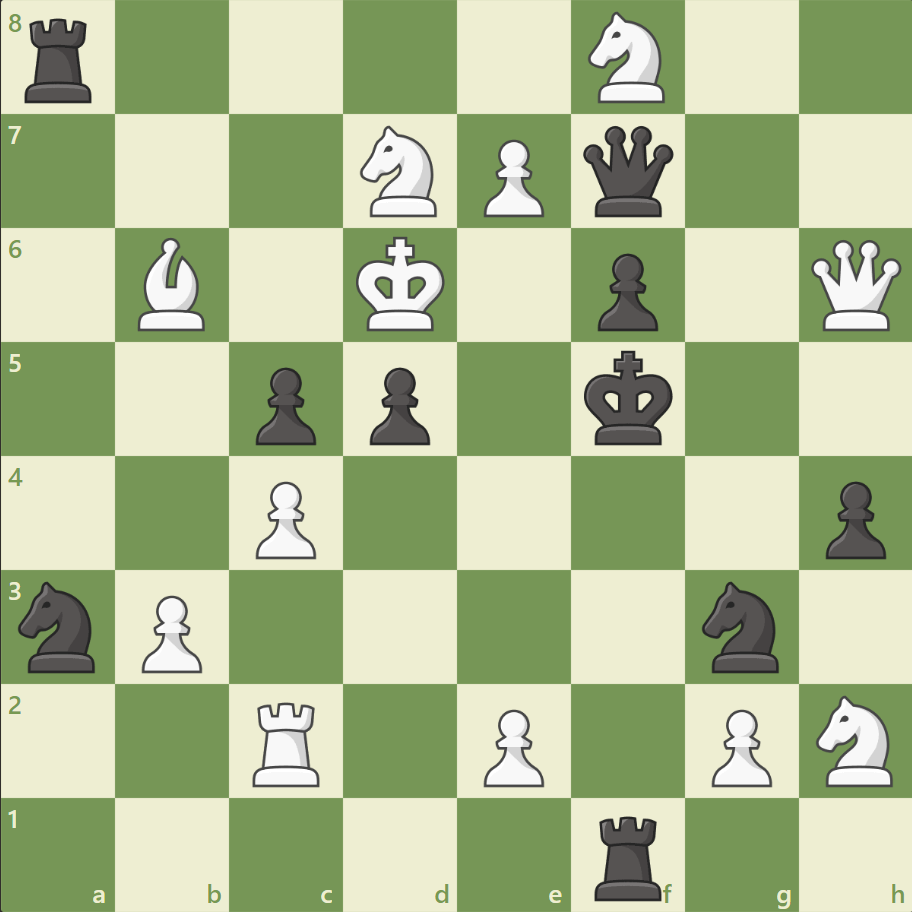B: (131, 233, 215, 336)
K: (351, 231, 451, 339)
N: (351, 121, 449, 223), (579, 7, 676, 110), (806, 688, 903, 791)
P: (474, 132, 549, 223), (247, 473, 322, 564), (133, 586, 208, 677), (474, 700, 549, 791), (701, 700, 776, 791)
Q: (805, 236, 904, 335)
R: (246, 693, 329, 790)
k: (579, 344, 679, 452)
n: (11, 575, 108, 677), (692, 575, 789, 677)
p: (247, 359, 322, 450), (588, 246, 662, 337), (361, 359, 435, 450), (815, 473, 889, 564)
q: (578, 122, 677, 222)
r: (587, 806, 670, 904), (19, 12, 102, 109)
